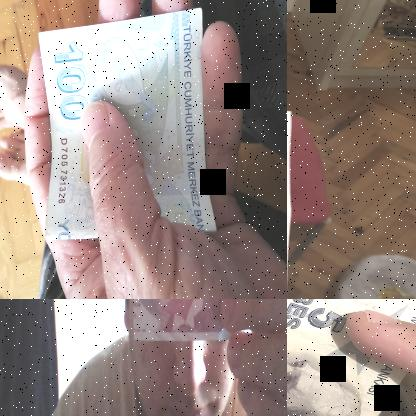5 TL: (38, 7, 218, 242)
